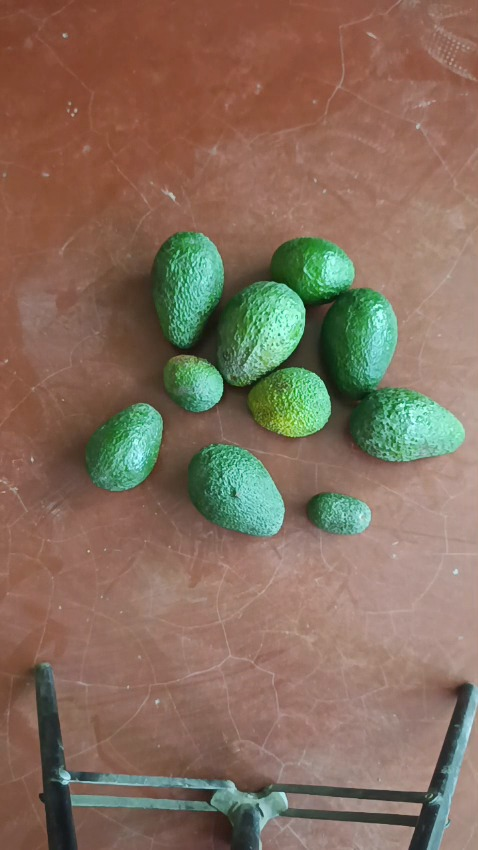Primera: (215, 280, 306, 386), (187, 444, 284, 535), (151, 231, 225, 349), (349, 387, 466, 461), (319, 288, 398, 397)
Segunda: (84, 403, 165, 491), (268, 236, 355, 306), (247, 367, 331, 437)
Tercera: (163, 355, 224, 413), (306, 492, 371, 534)
